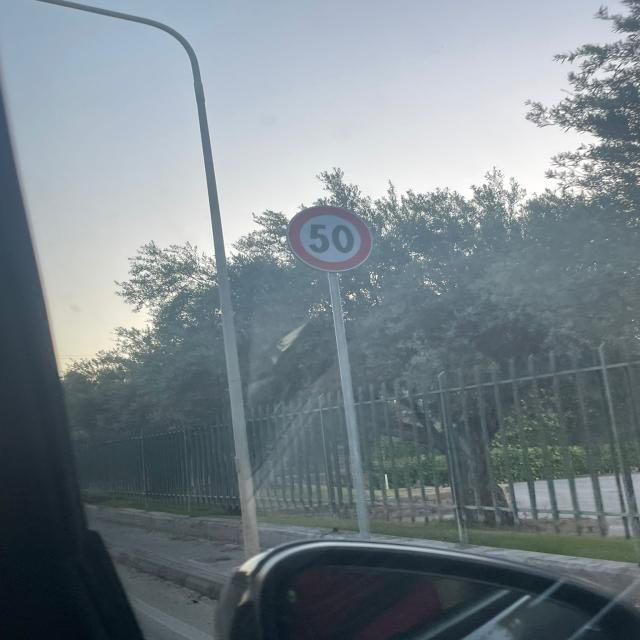forb_speed_over_50: (289, 205, 373, 273)
